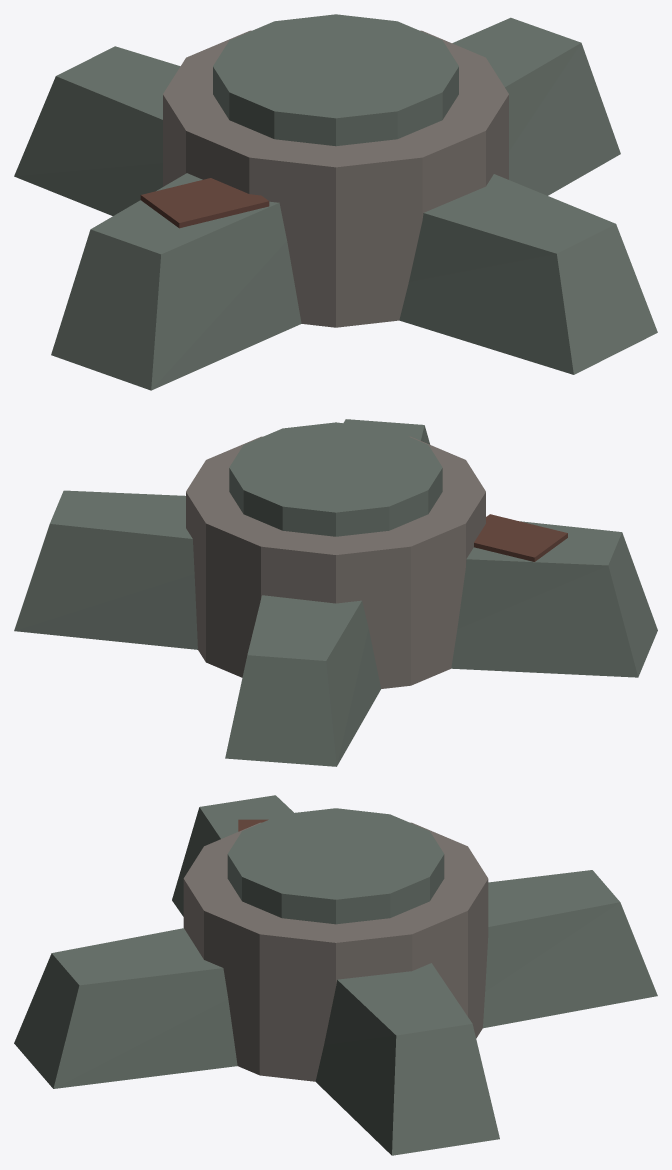
The model's file is warwalker_foot_b6.obj.
The picture shows the model from 3 angles, top to bottom: view 1: azimuth 30°, elevation 25°; view 2: azimuth 150°, elevation 25°; view 3: azimuth 270°, elevation 25°; orthographic projection. The views are drawn at different scales.
Parts seen in each view (by area): view 1: warwalker_foot_b6_4, warwalker_foot_b6_3, warwalker_foot_b6_2, warwalker_foot_b6_5, warwalker_foot_b6_1, warwalker_foot_b6_0, warwalker_foot_b6_6; view 2: warwalker_foot_b6_4, warwalker_foot_b6_2, warwalker_foot_b6_0, warwalker_foot_b6_1, warwalker_foot_b6_5, warwalker_foot_b6_6, warwalker_foot_b6_3; view 3: warwalker_foot_b6_4, warwalker_foot_b6_3, warwalker_foot_b6_0, warwalker_foot_b6_1, warwalker_foot_b6_5, warwalker_foot_b6_2.
Boxes of the visible parts, x1,y1,x2,y2 form: warwalker_foot_b6_4: (163,30,508,327); warwalker_foot_b6_3: (399,174,657,374); warwalker_foot_b6_2: (51,173,301,390); warwalker_foot_b6_5: (213,14,458,146); warwalker_foot_b6_1: (14,46,180,215); warwalker_foot_b6_0: (452,17,620,195); warwalker_foot_b6_6: (140,178,269,228); warwalker_foot_b6_4: (186,436,485,688); warwalker_foot_b6_2: (451,521,657,677); warwalker_foot_b6_0: (14,490,197,649); warwalker_foot_b6_1: (225,595,380,766); warwalker_foot_b6_5: (229,422,442,536); warwalker_foot_b6_6: (474,514,567,561); warwalker_foot_b6_3: (343,419,429,444); warwalker_foot_b6_4: (183,822,488,1081); warwalker_foot_b6_3: (14,928,237,1088); warwalker_foot_b6_0: (315,963,499,1155); warwalker_foot_b6_1: (483,870,657,1028); warwalker_foot_b6_5: (227,808,444,924); warwalker_foot_b6_2: (172,795,293,916).
Size of the model in its own units: 1.9 by 0.54 by 1.9.
